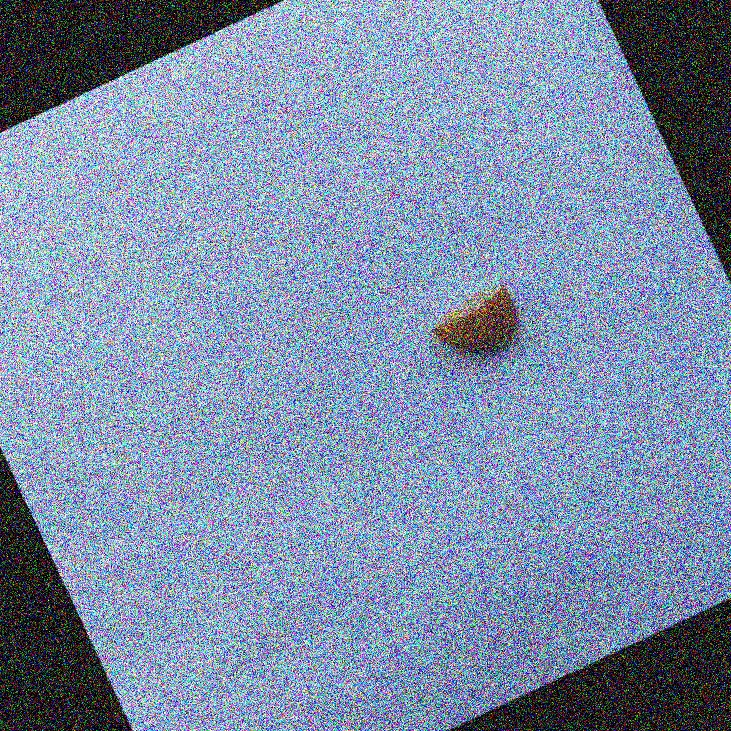grade4: (414, 272, 539, 381)
